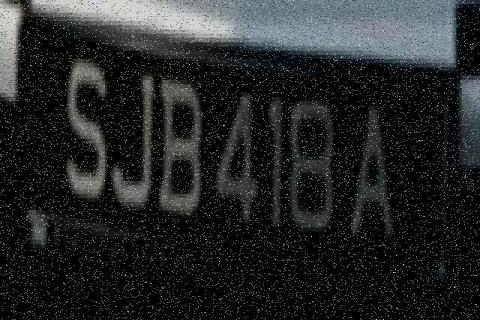LicensePlate: (12, 4, 456, 294)
